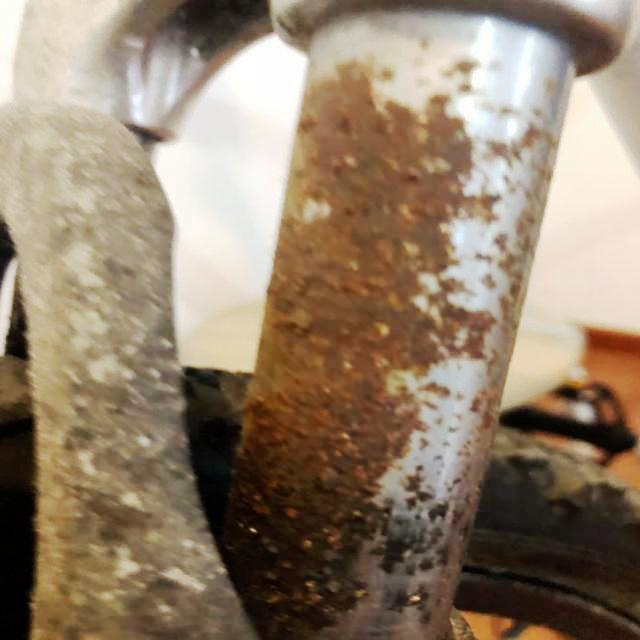Corrosion: (221, 51, 570, 640)
